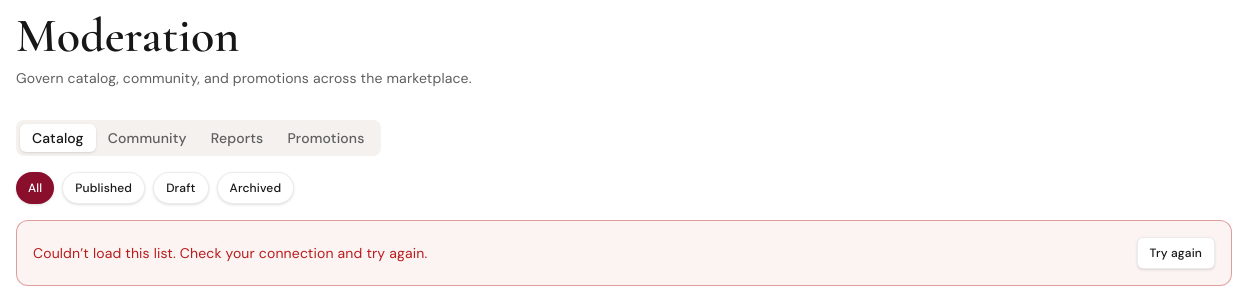
Test: admin moderation › offers a retry that reloads the failed list
Click the button "Try again" at coordinates (1176, 253), box x1=1137 y1=237 x2=1215 y2=269
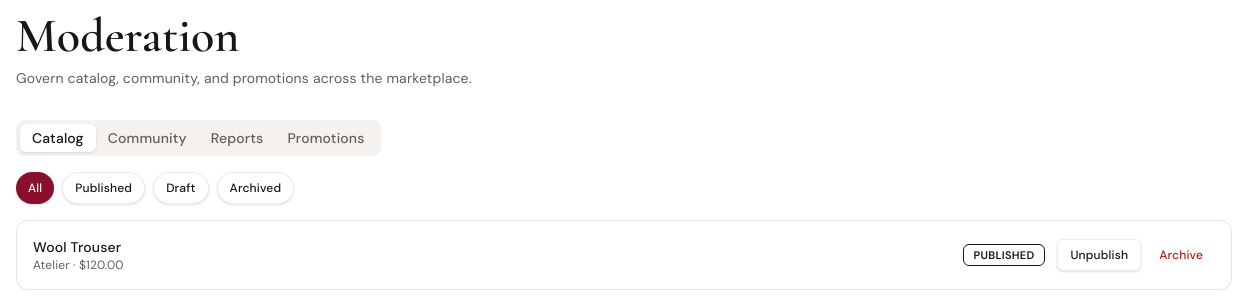
Expected: the text "Wool Trouser" is shown, x1=33 y1=238 x2=121 y2=256
Expected: the text "couldn.t load" is gone
